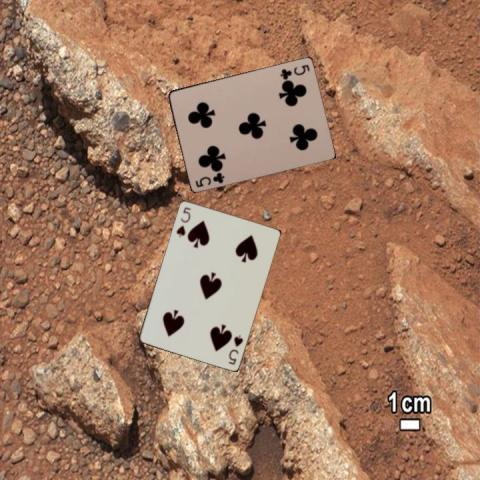5c: (193, 168, 226, 188), (278, 62, 312, 80)
5s: (225, 331, 244, 366), (173, 204, 192, 238)
